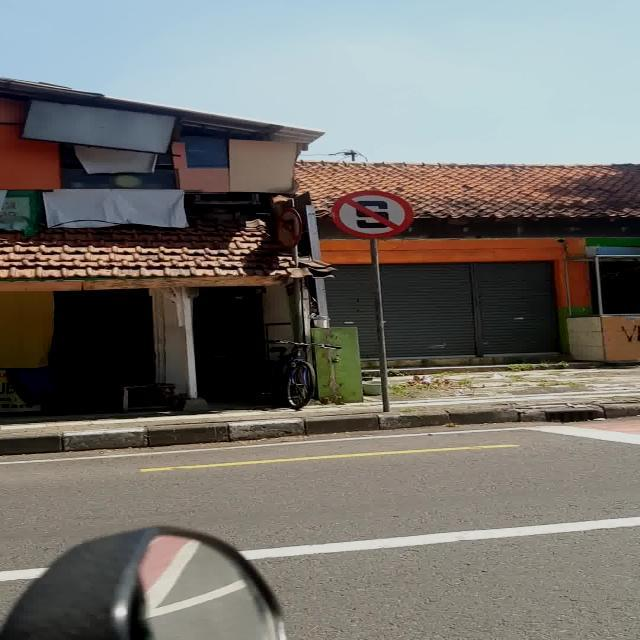Dilarang Berhenti: (332, 190, 414, 238)
